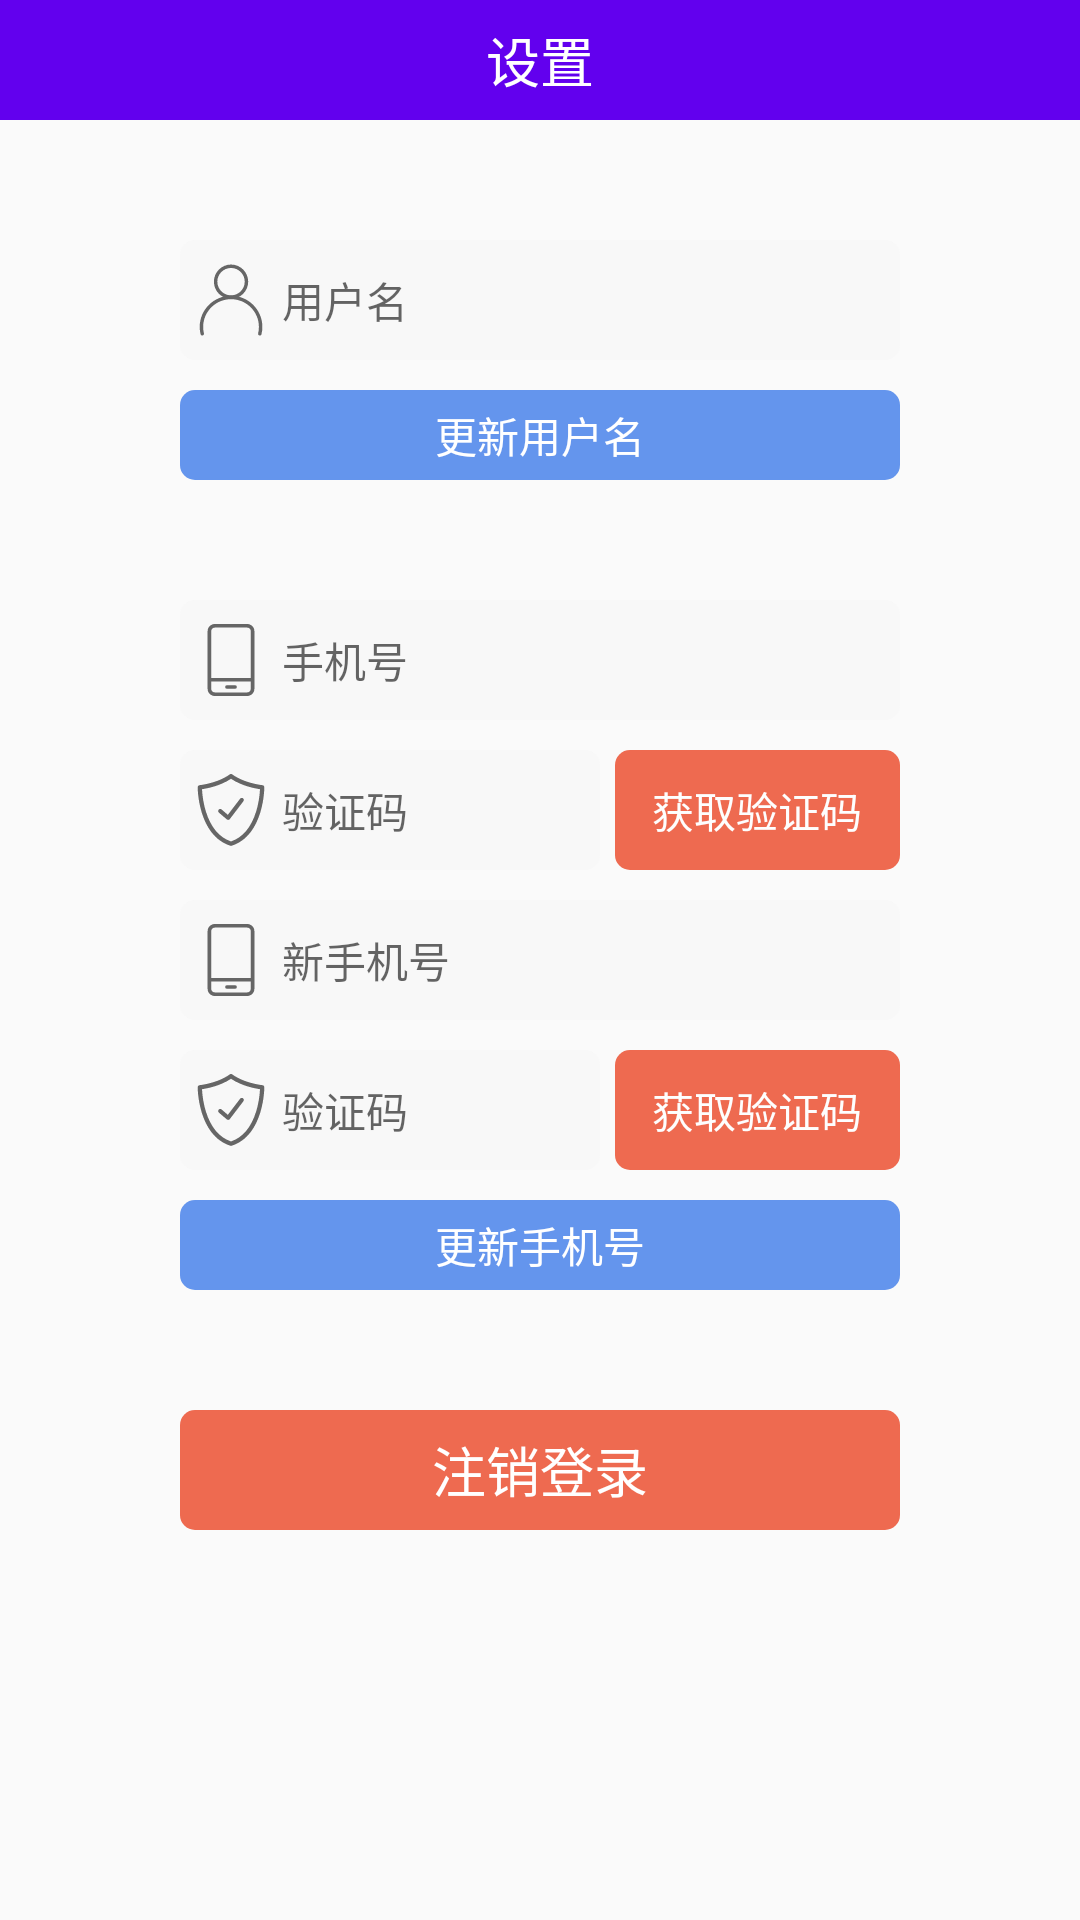

Icon click points for this 1080px×1920px phone screenshot, format (x=x, y=y):
user setting: (x=231, y=300)
